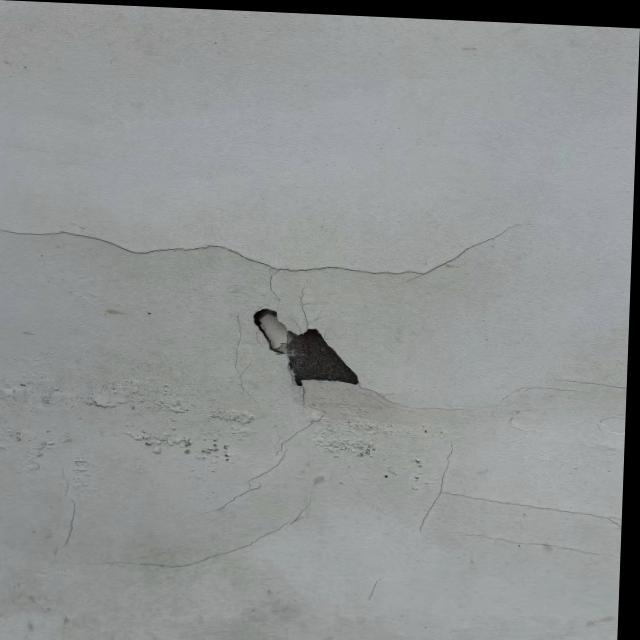crack: (6, 216, 537, 313), (46, 464, 330, 582), (407, 433, 621, 545), (200, 385, 332, 521), (364, 369, 615, 419), (452, 528, 613, 563), (227, 308, 266, 413)
spalling: (247, 305, 367, 389)
